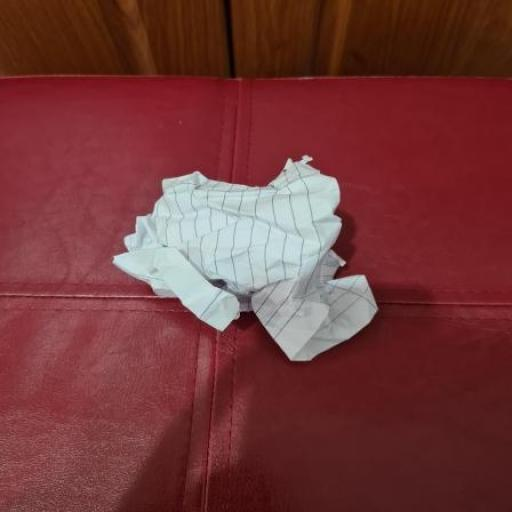paper: (127, 158, 371, 353)
